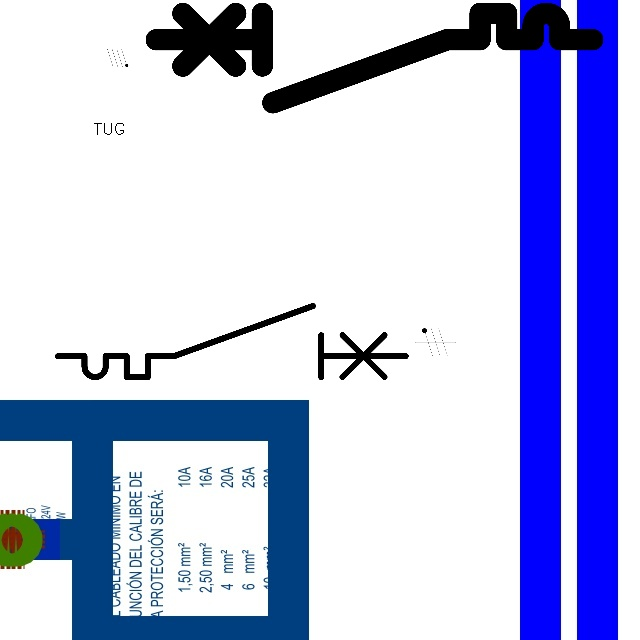interruptor_termomagnetico: (144, 2, 603, 114), (49, 297, 414, 386)
